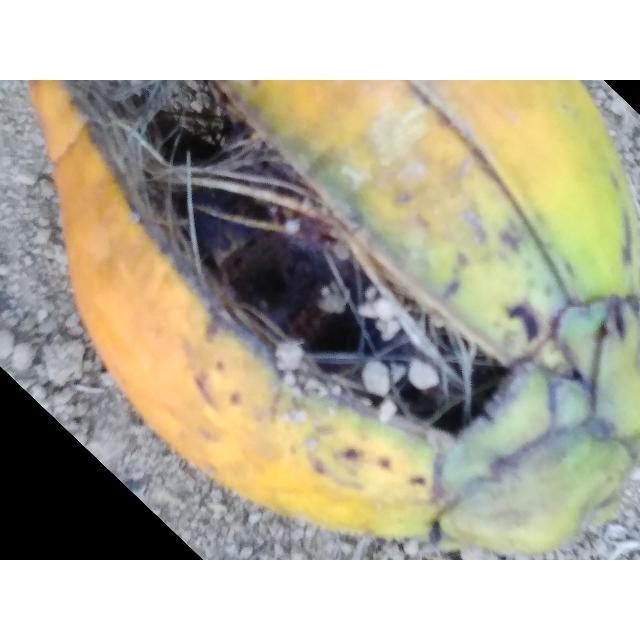damaged: (30, 80, 640, 553)
